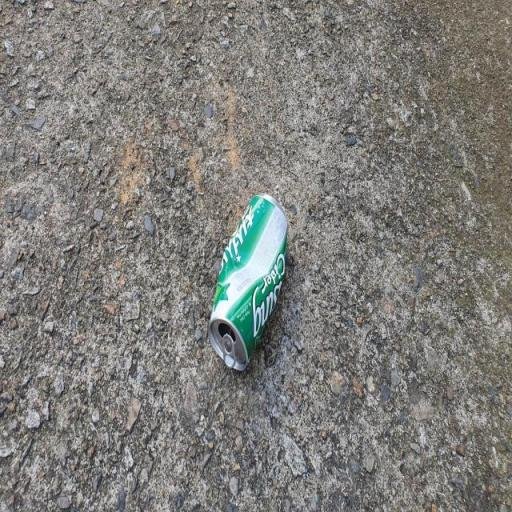metal: (202, 180, 296, 390)
